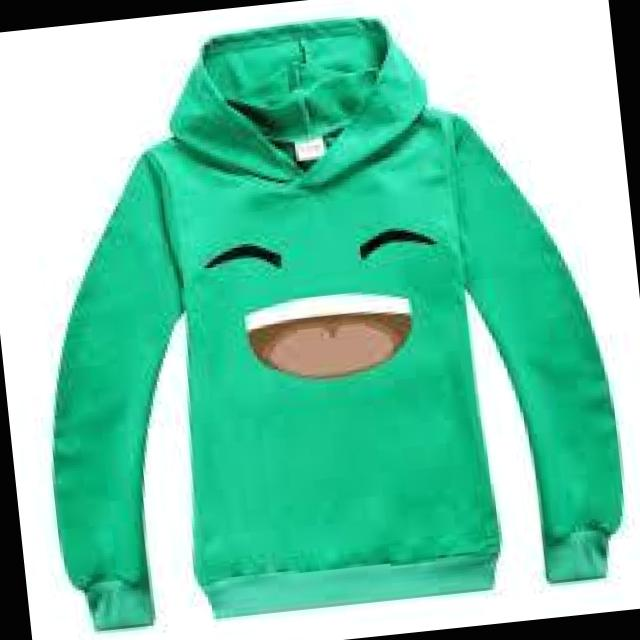sweater: (17, 0, 632, 634)
